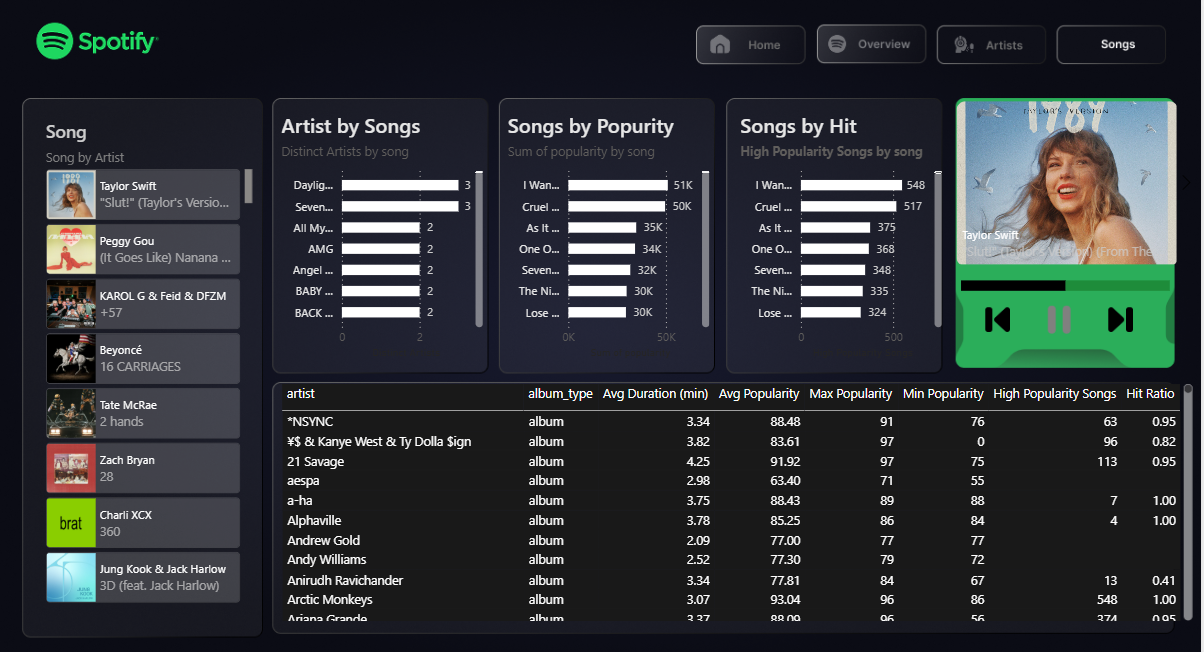

Layout of this report page (visuals, bound fields, positions):
{"tool":"powerbi","page":{"name":"Songs","canvas":[1280,720],"ordinal":3},"visuals":[{"type":"actionButton","box":[740,32.8,123.3,40],"z":0},{"type":"actionButton","box":[873.3,32.8,110,40],"z":1000},{"type":"actionButton","box":[996.7,32.8,123.3,40],"z":2000},{"type":"actionButton","box":[1131.7,32.8,123.3,40],"z":3000},{"type":"advancedSlicerVisual","title":"Song ","fields":{"Values":["Top-50-World.song"]},"box":[995,107.2,285,185],"z":4000},{"type":"hundredPercentStackedBarChart","fields":{"Y":["_Measures.Avg Popularity","Avg(Top-50-World.popularity)"]},"box":[1021.7,265.6,231.7,78.3],"z":5000},{"type":"image","box":[1110,328.9,40,30],"z":6000},{"type":"image","box":[1045,328.9,40,30],"z":7000},{"type":"image","box":[1175,328.9,40,30],"z":8000},{"type":"shape","box":[1008.5,106.8,257.6,300],"z":9000},{"type":"clusteredBarChart","title":"Artist by Songs","fields":{"Y":["_Measures.Distinct Artists"],"Category":["Top-50-World.song"]},"box":[300,122,223.7,267.8],"z":10000},{"type":"clusteredBarChart","title":"Songs by Popurity","fields":{"Y":["Sum(Top-50-World.popularity)"],"Category":["Top-50-World.song"]},"box":[540.7,122,223.7,267.8],"z":11000},{"type":"advancedSlicerVisual","title":"Song ","fields":{"Values":["Top-50-World.song"]},"box":[50.9,132,229,518.5],"z":12000},{"type":"clusteredBarChart","title":"Songs by Hit","fields":{"Category":["Top-50-World.song"],"Y":["_Measures.High Popularity Songs"]},"box":[788.1,122,223.7,267.8],"z":13000},{"type":"tableEx","fields":{"Values":["Top-50-World.artist","Top-50-World.album_type","_Measures.Avg Duration (min)","_Measures.Avg Popularity","_Measures.Max Popularity","_Measures.Min Popularity","_Measures.High Popularity Songs","_Measures.Hit Ratio"]},"box":[300,406.8,976.3,261],"z":14000}]}

Visuals, with their boxes on the page's 1280x720 design canvas (x1, y1, x2, y2). These are canvas units, not pixel positions in the 1204x652 screenshot, which may show the page scaled, cropped or inside an application window:
actionButton: BBox(740, 33, 863, 73)
actionButton: BBox(873, 33, 983, 73)
actionButton: BBox(997, 33, 1120, 73)
actionButton: BBox(1132, 33, 1255, 73)
"Song " advancedSlicerVisual: BBox(995, 107, 1280, 292)
hundredPercentStackedBarChart - _Measures.Avg Popularity x Avg(Top-50-World.popularity): BBox(1022, 266, 1253, 344)
image: BBox(1110, 329, 1150, 359)
image: BBox(1045, 329, 1085, 359)
image: BBox(1175, 329, 1215, 359)
shape: BBox(1008, 107, 1266, 407)
"Artist by Songs" clusteredBarChart: BBox(300, 122, 524, 390)
"Songs by Popurity" clusteredBarChart: BBox(541, 122, 764, 390)
"Song " advancedSlicerVisual: BBox(51, 132, 280, 650)
"Songs by Hit" clusteredBarChart: BBox(788, 122, 1012, 390)
tableEx - Top-50-World.artist x Top-50-World.album_type: BBox(300, 407, 1276, 668)
